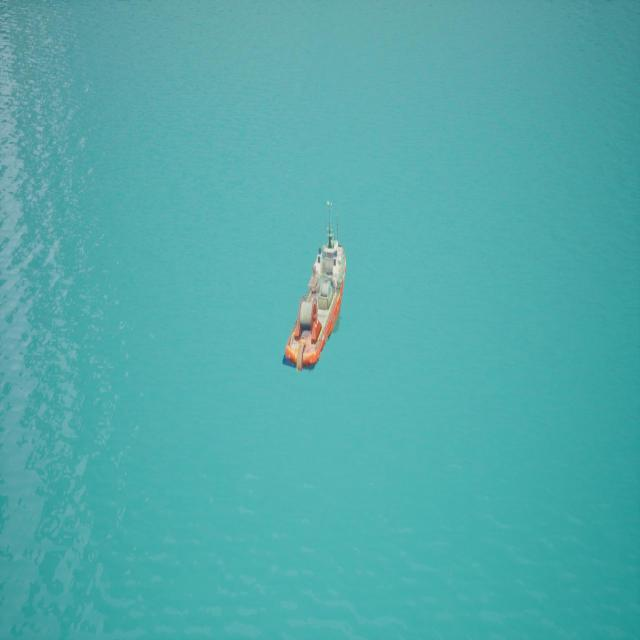tug boat: (290, 203, 348, 375)
